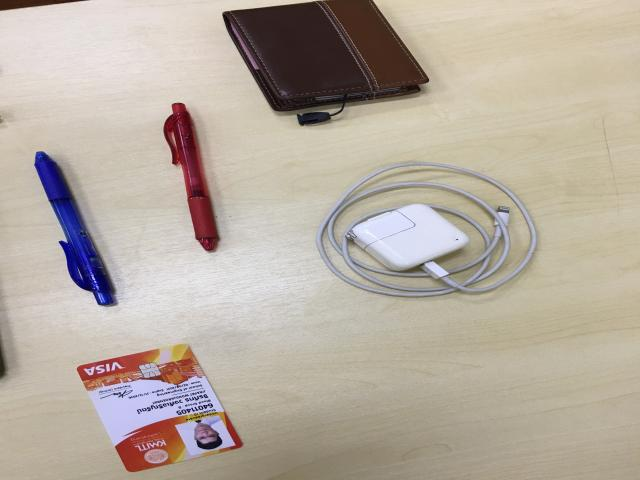Pen: (33, 152, 117, 308), (163, 103, 221, 253)
Wallet: (222, 0, 431, 114)
